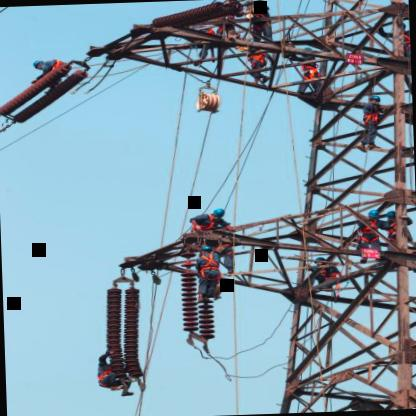helmet: (210, 207, 228, 222), (200, 244, 218, 257), (28, 60, 47, 71), (368, 93, 384, 106), (364, 209, 380, 222), (386, 210, 400, 221), (223, 0, 241, 4)
